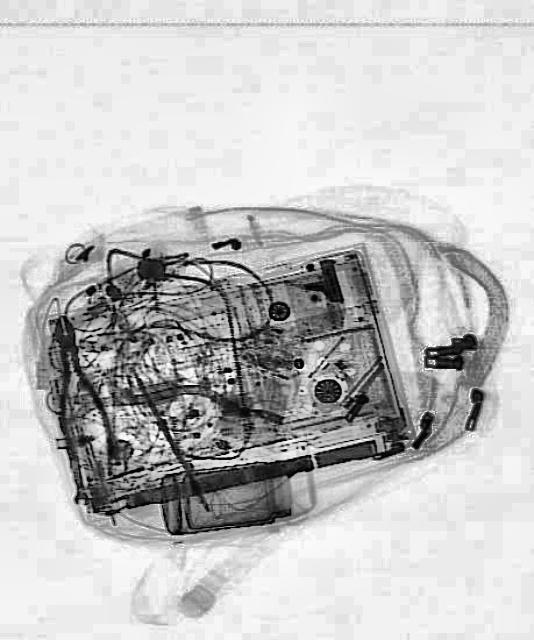Pliers: (38, 309, 117, 485)
Wrench: (62, 442, 90, 506)
